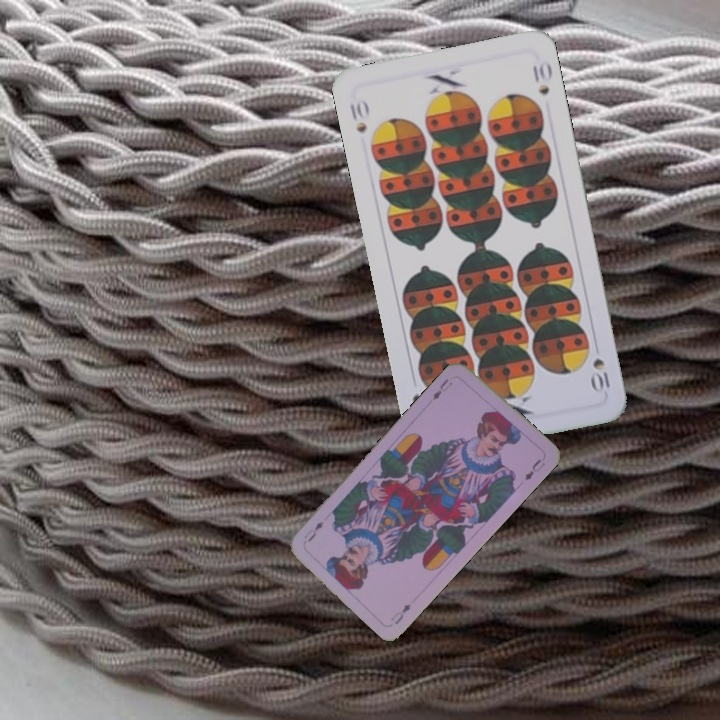EU: (428, 375, 455, 403), (387, 599, 414, 627)
S10: (588, 354, 613, 396), (345, 96, 371, 136)
